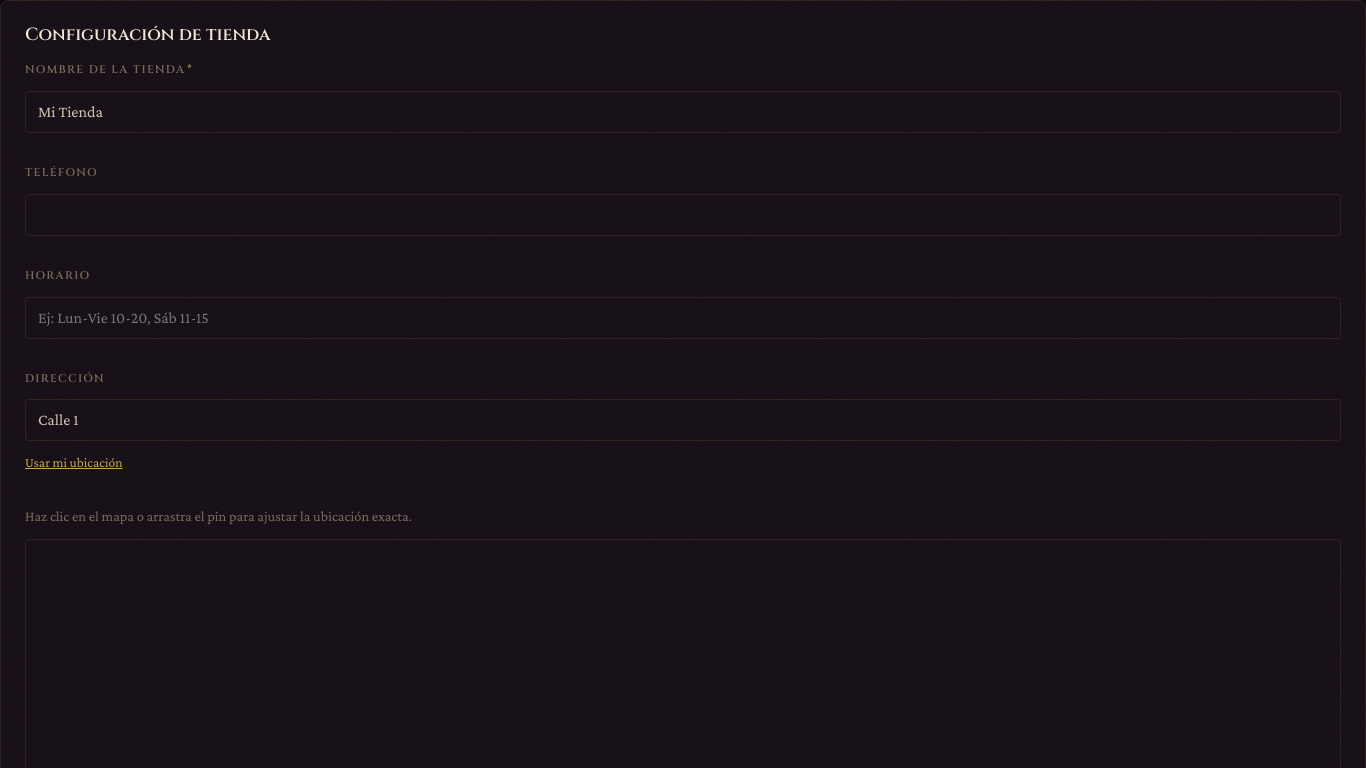
Test: ConfiguracionTiendaTab › muestra sugerencias de dirección al escribir
Replace the text in the field with placeholder "Ej: Av. Providencia 1234, Santiago" with "Av. Providencia" at (683, 420), box [25,399,1341,441]
Wait 400 ms
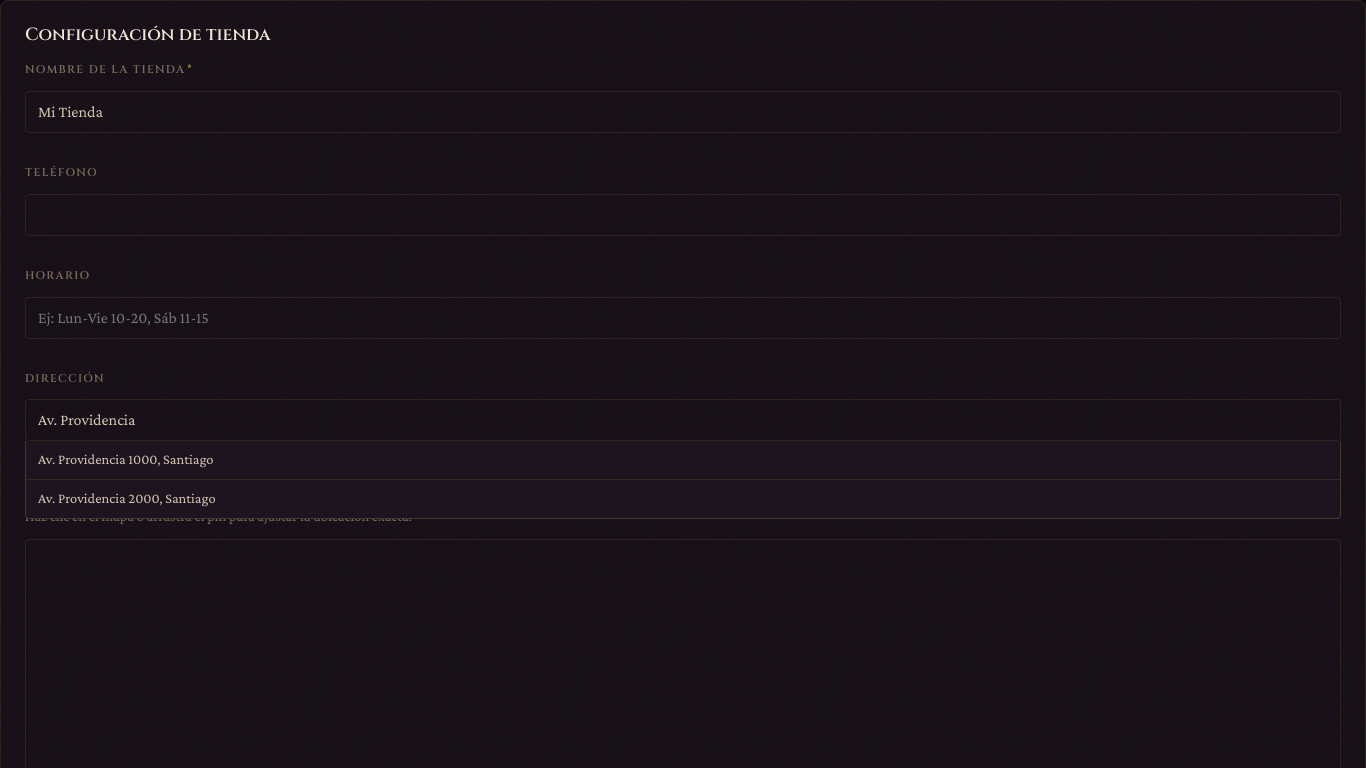
Now the list item "Av. Providencia 1000, Santiago" is shown, box [26,441,1340,480]
Now the list item "Av. Providencia 2000, Santiago" is shown, box [38,490,216,506]
